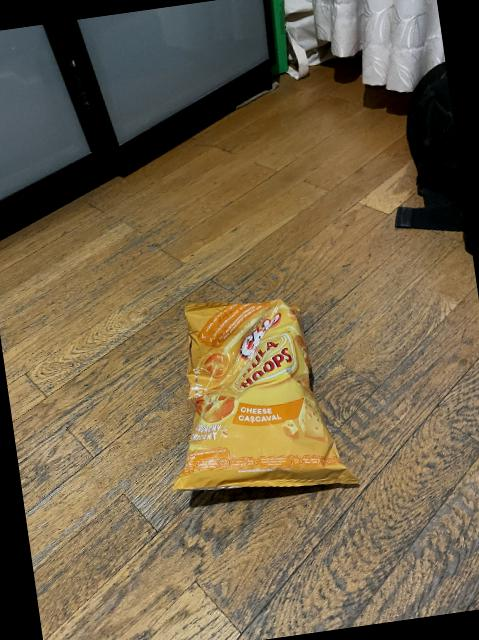Chio Hula Hoops Cheese 70g: (154, 286, 362, 509)
